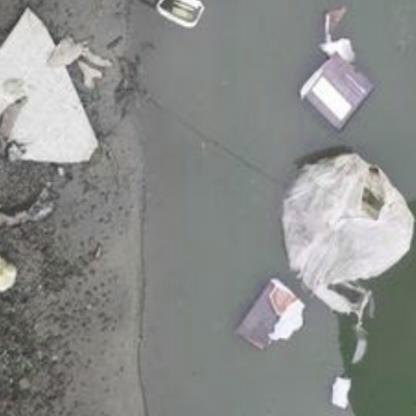Trash: (285, 154, 415, 308), (296, 8, 371, 137), (230, 278, 307, 351)
